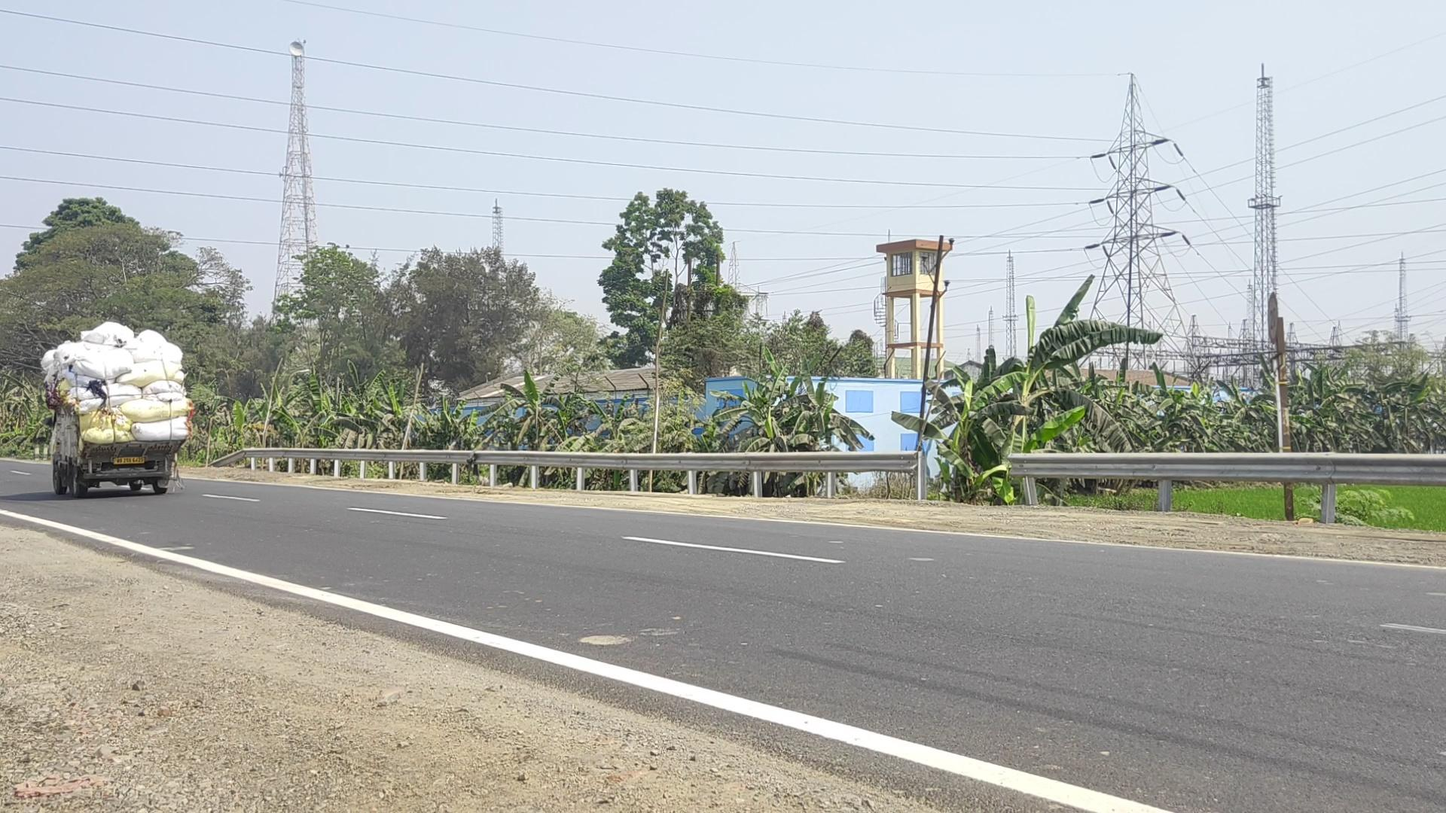van: (43, 321, 191, 498)
